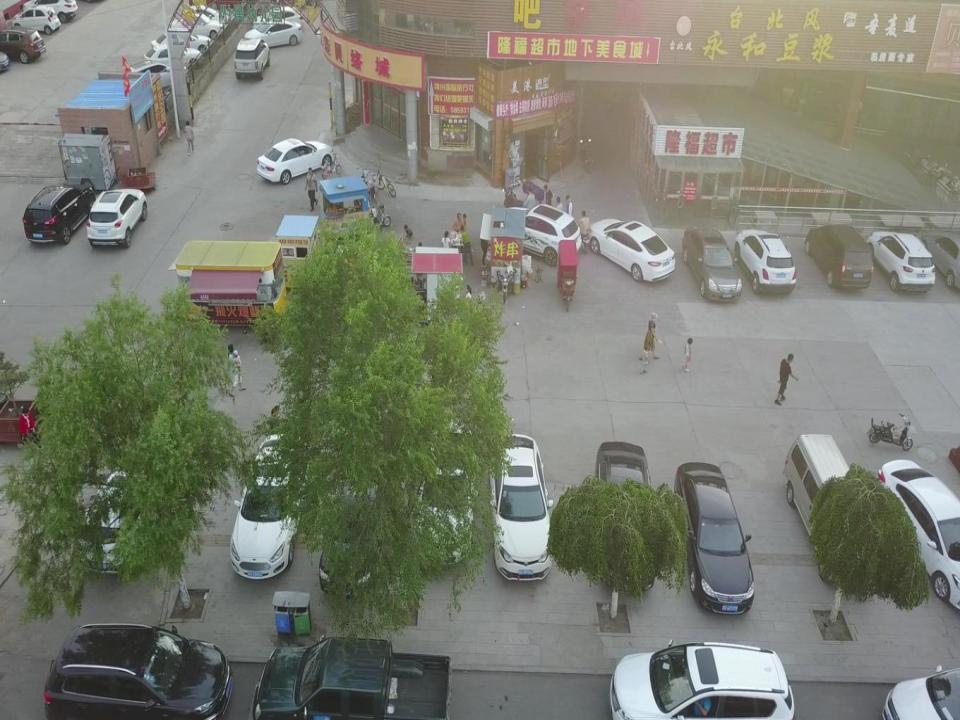car: (41, 622, 236, 720), (609, 641, 796, 720), (872, 457, 960, 614), (673, 461, 756, 616), (230, 433, 311, 577), (484, 428, 556, 583), (415, 426, 479, 566), (319, 481, 385, 595), (81, 466, 151, 573), (594, 440, 652, 562), (588, 219, 675, 280), (879, 660, 958, 720), (506, 205, 582, 267), (681, 227, 743, 301), (23, 184, 96, 246), (865, 229, 936, 292), (734, 226, 796, 294), (257, 138, 335, 185), (87, 188, 147, 248), (920, 233, 954, 292), (152, 31, 214, 60), (143, 45, 204, 73), (125, 61, 179, 92), (0, 28, 47, 62), (234, 40, 272, 80), (244, 22, 303, 46), (24, 0, 79, 24), (12, 8, 61, 34), (253, 5, 303, 29), (172, 15, 226, 36), (182, 8, 224, 25), (355, 165, 369, 191)
truck: (253, 636, 453, 720)
van: (783, 428, 861, 563), (805, 222, 872, 290)
